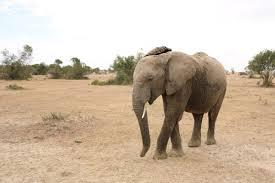elephant: (132, 46, 226, 158)
